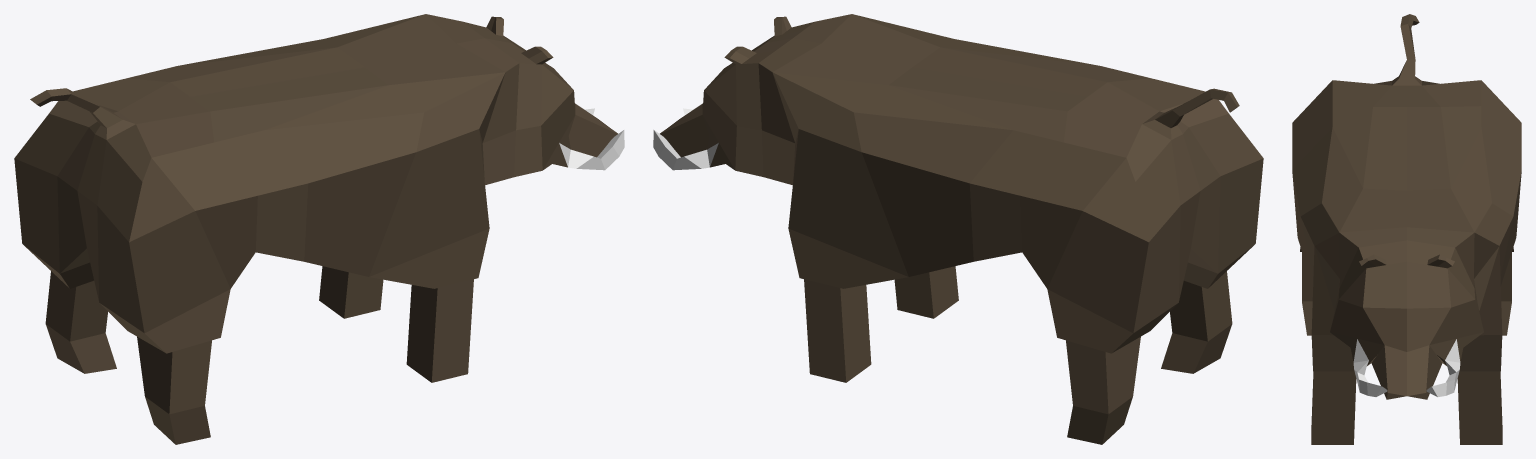
The model's file is boar.glb.
3 views of the same model, side by side, from view 1: azimuth 30°, elevation 25°; view 2: azimuth 150°, elevation 25°; view 3: azimuth 270°, elevation 25° (orthographic). The views are drawn at different scales.
Parts seen in each view (by area): view 1: boar; view 2: boar; view 3: boar.
Part boxes in pixels (x1,y1,x2,y2): boar: (14, 14, 624, 444); boar: (653, 14, 1263, 444); boar: (1292, 14, 1521, 444).
Bounding box in the file's own units: 1.68 × 0.9203 × 0.6832.
